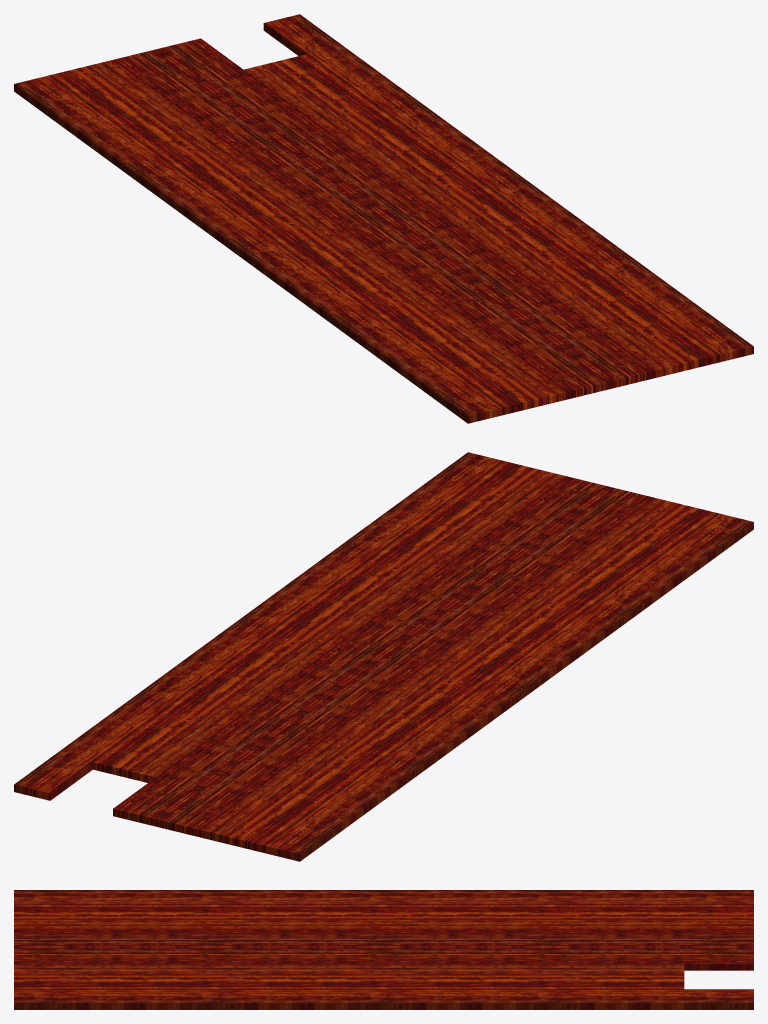
The picture shows the model from 3 angles, top to bottom: view 1: azimuth 30°, elevation 25°; view 2: azimuth 150°, elevation 25°; view 3: azimuth 270°, elevation 25°; orthographic projection. The views are drawn at different scales.
Parts seen in each view (by area): view 1: Plane004_Material001_0; view 2: Plane004_Material001_0; view 3: Plane004_Material001_0.
Boxes of the visible parts, <box> form: Plane004_Material001_0: <box>14,14,753,423</box>; Plane004_Material001_0: <box>14,452,753,861</box>; Plane004_Material001_0: <box>14,890,753,1009</box>.
Size of the model in its own units: 8 by 0.2 by 22.
1 material, 1 textured.
